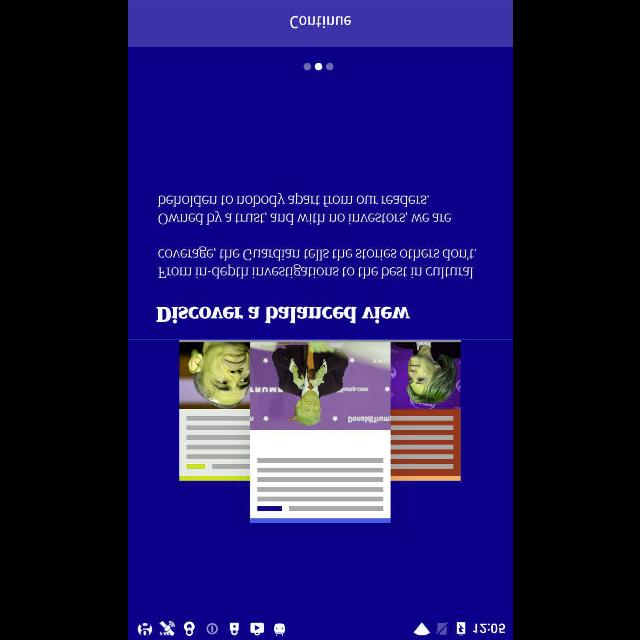image: (178, 340, 460, 522)
pageindicator: (302, 62, 334, 72)
text: (157, 246, 476, 280), (156, 192, 450, 225), (154, 306, 408, 324)
textbutton: (128, 0, 512, 46)
uppertaskbar: (128, 617, 512, 639)
